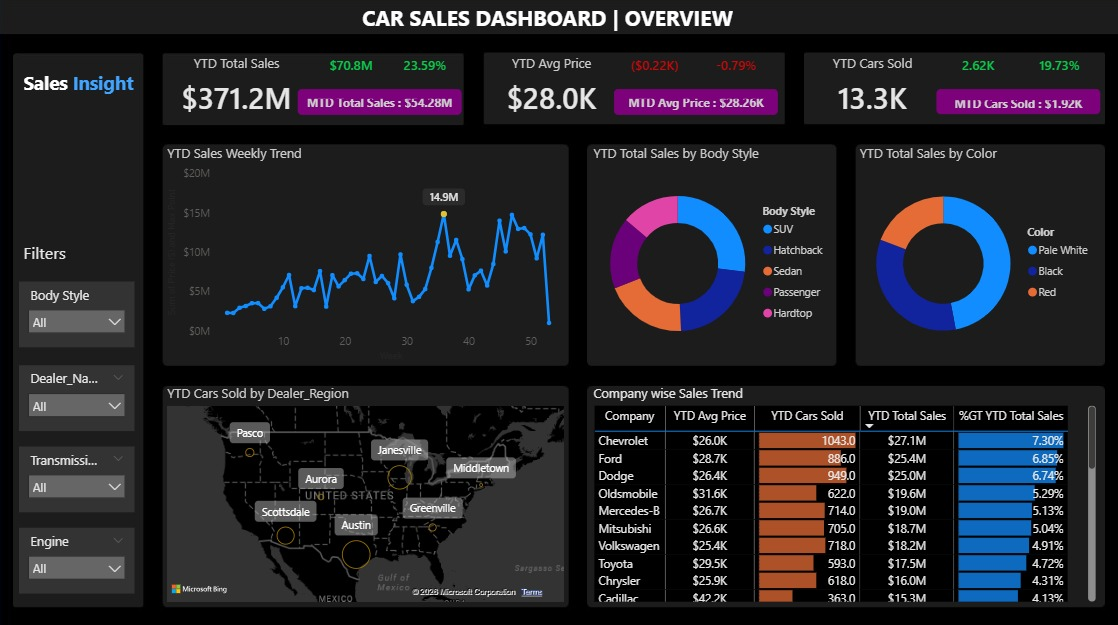

Layout of this report page (visuals, bound fields, positions):
{"tool":"powerbi","page":{"name":"Overview","canvas":[1280,720],"ordinal":0},"visuals":[{"type":"card","title":"YTD Total Sales","fields":{"Values":["car_data.YTD Total Sales"]},"box":[187,62.3,168.8,80.5],"z":0},{"type":"card","fields":{"Values":["car_data.Sales Difference"]},"box":[355.8,62.3,93.5,26],"z":1000},{"type":"card","fields":{"Values":["car_data.YOY Sales Growth"]},"box":[440.3,62.3,93.5,26],"z":2000},{"type":"card","fields":{"Values":["car_data.MTD KPI"]},"box":[341.6,102.6,187,29.9],"z":3000},{"type":"card","title":"YTD Avg Price","fields":{"Values":["car_data.YTD Avg Price"]},"box":[546.8,62.3,168.8,80.5],"z":4000},{"type":"card","fields":{"Values":["car_data.Avg Price Diff"]},"box":[702.6,62.3,93.5,26],"z":5000},{"type":"card","fields":{"Values":["car_data.YOY Avg Price Growth"]},"box":[796.1,62.3,93.5,26],"z":6000},{"type":"card","fields":{"Values":["car_data.MTD Avg Price KPI"]},"box":[702.6,102.6,187,29.9],"z":7000},{"type":"card","title":"YTD Cars Sold","fields":{"Values":["car_data.YTD Cars Sold"]},"box":[914.5,62.3,168.1,81.2],"z":8000},{"type":"card","fields":{"Values":["car_data.Cars Sold Diff"]},"box":[1072.5,62.3,92.8,26.1],"z":9000},{"type":"card","fields":{"Values":["Calender Table.YOY Car Sold Growth"]},"box":[1165.2,62.3,92.8,26.1],"z":10000},{"type":"card","fields":{"Values":["car_data.MTD Cars sold KPI"]},"box":[1071,102.9,187,29],"z":11000},{"type":"areaChart","title":"YTD Sales Weekly Trend","fields":{"Category":["Calender Table.Week"],"Y":["Sum(car_data.Price ($))","car_data.Max Point"]},"box":[187,165.2,463.8,253.6],"z":12000},{"type":"donutChart","fields":{"Category":["car_data.Body Style"],"Y":["car_data.YTD Total Sales"]},"box":[673.9,165.2,281.2,253.6],"z":13000},{"type":"donutChart","fields":{"Y":["car_data.YTD Total Sales"],"Category":["car_data.Color"]},"box":[978.3,165.2,279.7,253.6],"z":14000},{"type":"map","fields":{"Category":["car_data.Dealer_Region"],"Size":["car_data.YTD Cars Sold"]},"box":[187,440.6,463.8,253.6],"z":15000},{"type":"tableEx","title":"Company wise Sales Trend","fields":{"Values":["car_data.Company","car_data.YTD Avg Price","car_data.YTD Cars Sold","car_data.YTD Total Sales1","car_data.YTD Total Sales"]},"box":[673.8,440.5,584.6,253.9],"z":16000},{"type":"textbox","box":[410.3,0,456.9,48],"z":17000},{"type":"slicer","fields":{"Values":["car_data.Body Style"]},"box":[23.3,322.5,131.7,75.5],"z":18000},{"type":"slicer","fields":{"Values":["car_data.Dealer_Name"]},"box":[23.3,418.5,131.7,75.5],"z":19000},{"type":"slicer","fields":{"Values":["car_data.Transmission"]},"box":[23.3,511.8,131.7,75.5],"z":20000},{"type":"slicer","fields":{"Values":["car_data.Engine"]},"box":[23.3,603.8,131.7,75.5],"z":21000},{"type":"textbox","box":[23.3,273.1,83.7,38.4],"z":22000},{"type":"textbox","box":[23.3,75.5,149.6,48],"z":23000}]}

Visuals, with their boxes in screenshot pixels (x1, y1, x2, y2), scaled from the page's 1280x720 canvas onto the 1118x625 screenshot:
"YTD Total Sales" card: <region>163, 54, 311, 124</region>
card - car_data.Sales Difference: <region>311, 54, 392, 77</region>
card - car_data.YOY Sales Growth: <region>385, 54, 466, 77</region>
card - car_data.MTD KPI: <region>298, 89, 462, 115</region>
"YTD Avg Price" card: <region>478, 54, 625, 124</region>
card - car_data.Avg Price Diff: <region>614, 54, 695, 77</region>
card - car_data.YOY Avg Price Growth: <region>695, 54, 777, 77</region>
card - car_data.MTD Avg Price KPI: <region>614, 89, 777, 115</region>
"YTD Cars Sold" card: <region>799, 54, 946, 125</region>
card - car_data.Cars Sold Diff: <region>937, 54, 1018, 77</region>
card - Calender Table.YOY Car Sold Growth: <region>1018, 54, 1099, 77</region>
card - car_data.MTD Cars sold KPI: <region>935, 89, 1099, 114</region>
"YTD Sales Weekly Trend" areaChart: <region>163, 143, 568, 364</region>
donutChart - car_data.Body Style x car_data.YTD Total Sales: <region>589, 143, 834, 364</region>
donutChart - car_data.YTD Total Sales x car_data.Color: <region>854, 143, 1099, 364</region>
map - car_data.Dealer_Region x car_data.YTD Cars Sold: <region>163, 382, 568, 603</region>
"Company wise Sales Trend" tableEx: <region>589, 382, 1099, 603</region>
textbox: <region>358, 0, 757, 42</region>
slicer - car_data.Body Style: <region>20, 280, 135, 345</region>
slicer - car_data.Dealer_Name: <region>20, 363, 135, 429</region>
slicer - car_data.Transmission: <region>20, 444, 135, 510</region>
slicer - car_data.Engine: <region>20, 524, 135, 590</region>
textbox: <region>20, 237, 93, 270</region>
textbox: <region>20, 66, 151, 107</region>
